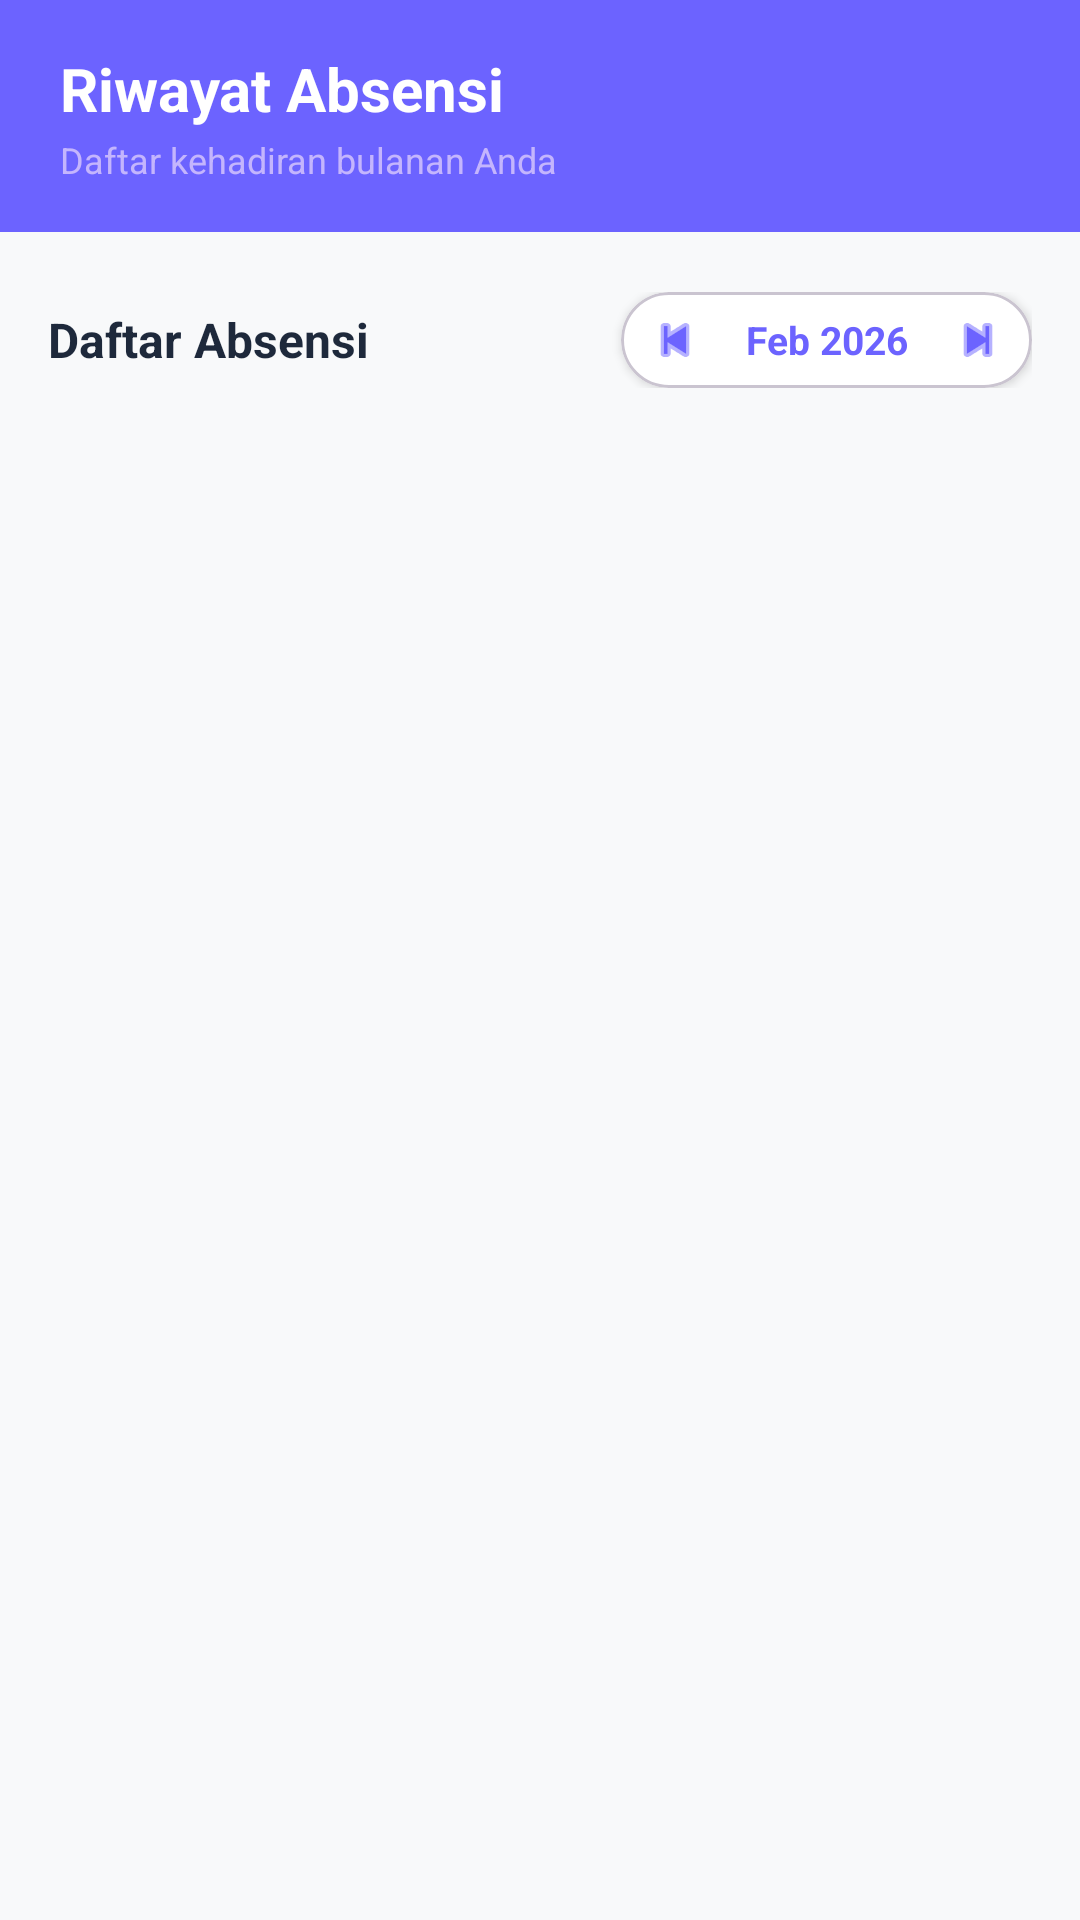

Icons on this 1080w x 1920h Android screen, each with the point to tap as point (x, y):
next: point (978, 340)
previous: point (675, 340)
